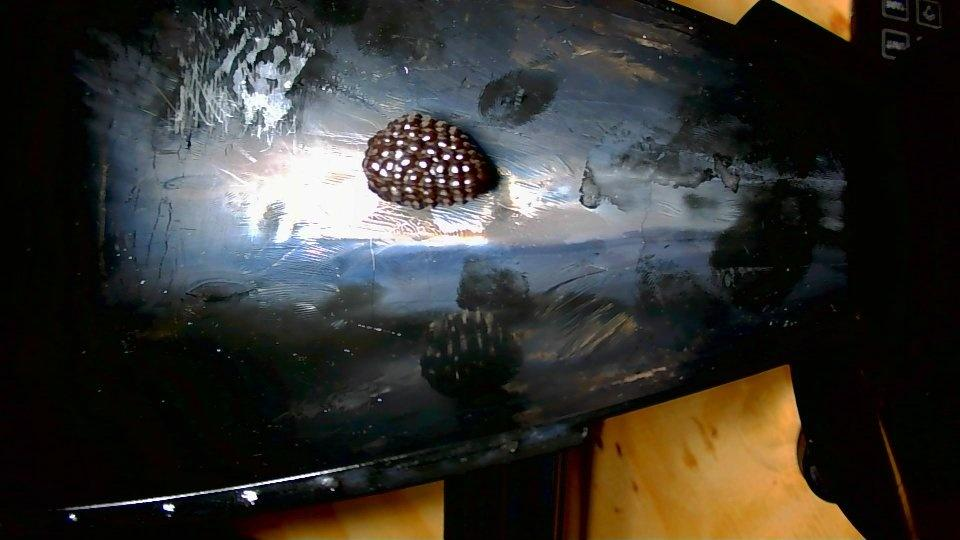berry: (362, 113, 494, 208)
